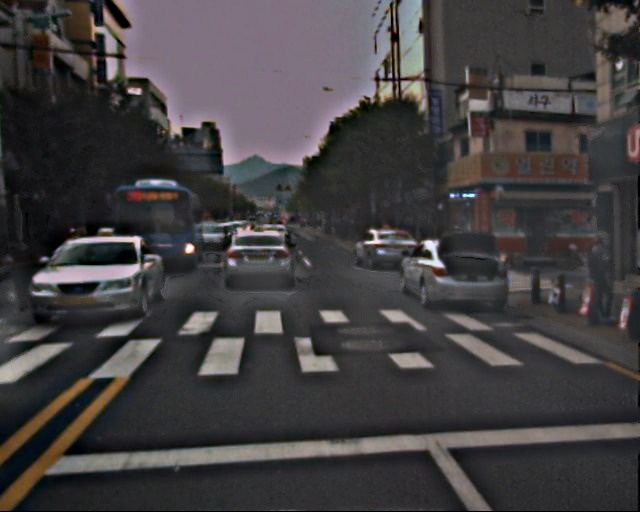person: (583, 235, 622, 321), (522, 218, 542, 259)
